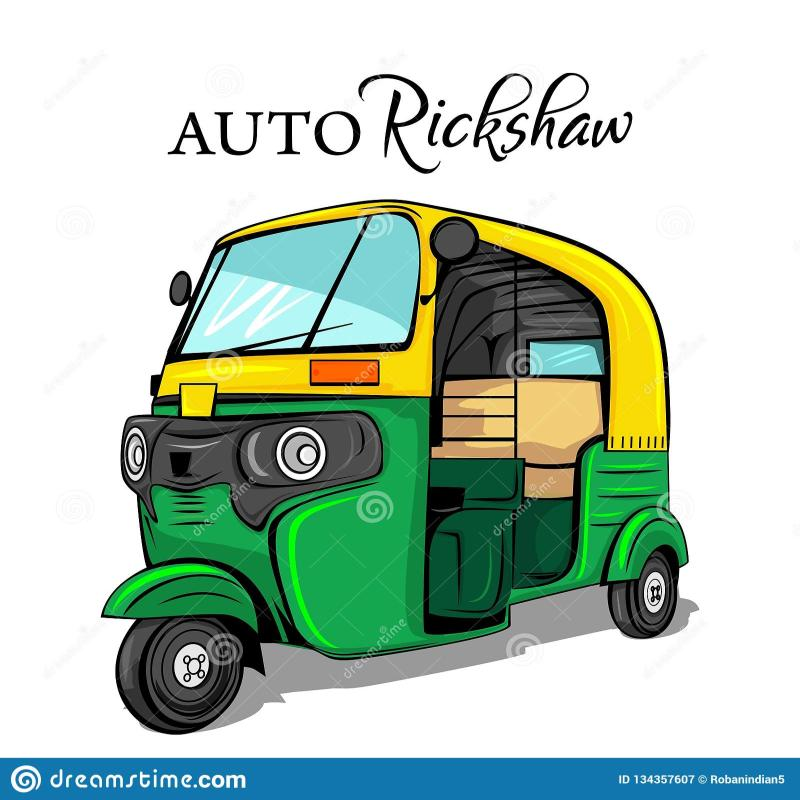bike: (128, 229, 680, 696)
